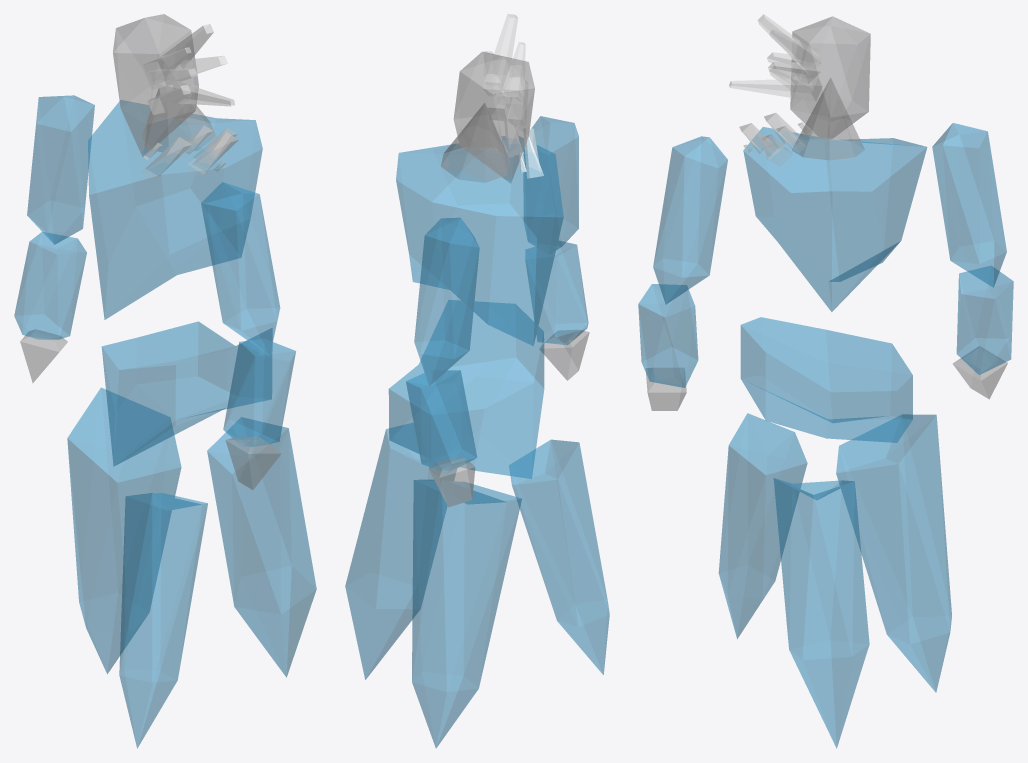
File: ghostIdle18.obj
The picture shows the model from 3 angles, left to right: view 1: azimuth 30°, elevation 25°; view 2: azimuth 150°, elevation 25°; view 3: azimuth 270°, elevation 25°; orthographic projection. The views are drawn at different scales.
Parts seen in each view (by area): view 1: Cube.001_Cube.001, Icosphere.005, Icosphere.004, Cube_Cube.002, Icosphere.003, Icosphere.005_Icosphere.001, Icosphere.003_Icosphere.001, Icosphere.007_Icosphere.001, Icosphere.008_Icosphere.001, Icosphere.006_Icosphere.001, Cone_Cone.002, Cube.002_Cube.001 (+10 smaller); view 2: Cube.001_Cube.001, Cube_Cube.002, Icosphere.005, Icosphere.004, Icosphere.003, Icosphere.007_Icosphere.001, Icosphere.003_Icosphere.001, Icosphere.005_Icosphere.001, Icosphere.008_Icosphere.001, Icosphere.006_Icosphere.001, Cone_Cone.002, Cube.003_Cube.001 (+5 smaller); view 3: Cube.001_Cube.001, Icosphere.005, Icosphere.004, Cube_Cube.002, Icosphere.003, Icosphere.005_Icosphere.001, Icosphere.007_Icosphere.001, Icosphere.003_Icosphere.001, Icosphere.006_Icosphere.001, Icosphere.008_Icosphere.001, Cone_Cone.002, Cube.003_Cube.001 (+4 smaller).
Boxes of the visible parts, box(x1,y1,x2,y2) form: Cube.001_Cube.001: box(88, 100, 262, 319); Icosphere.005: box(67, 387, 181, 673); Icosphere.004: box(207, 417, 316, 677); Cube_Cube.002: box(101, 321, 272, 466); Icosphere.003: box(119, 493, 207, 748); Icosphere.005_Icosphere.001: box(201, 182, 280, 355); Icosphere.003_Icosphere.001: box(113, 14, 198, 156); Icosphere.007_Icosphere.001: box(27, 95, 94, 244); Icosphere.008_Icosphere.001: box(14, 232, 86, 339); Icosphere.006_Icosphere.001: box(223, 339, 295, 446); Cone_Cone.002: box(143, 89, 215, 152); Cube.002_Cube.001: box(225, 437, 281, 489); Cube.001_Cube.001: box(396, 136, 563, 345); Cube_Cube.002: box(388, 300, 544, 478); Icosphere.005: box(412, 479, 521, 748); Icosphere.004: box(345, 423, 456, 679); Icosphere.003: box(509, 439, 609, 674); Icosphere.007_Icosphere.001: box(414, 217, 479, 385); Icosphere.003_Icosphere.001: box(453, 51, 534, 183); Icosphere.005_Icosphere.001: box(523, 116, 578, 254); Icosphere.008_Icosphere.001: box(406, 370, 477, 473); Icosphere.006_Icosphere.001: box(525, 241, 588, 344); Cone_Cone.002: box(441, 103, 507, 182); Cube.003_Cube.001: box(429, 456, 475, 506); Cube.001_Cube.001: box(743, 127, 927, 311); Icosphere.005: box(836, 414, 951, 692); Icosphere.004: box(773, 478, 869, 748); Cube_Cube.002: box(740, 317, 912, 442); Icosphere.003: box(718, 413, 807, 638); Icosphere.005_Icosphere.001: box(653, 136, 727, 304); Icosphere.007_Icosphere.001: box(932, 123, 1006, 287); Icosphere.003_Icosphere.001: box(790, 16, 870, 138); Icosphere.006_Icosphere.001: box(638, 284, 698, 387); Icosphere.008_Icosphere.001: box(956, 266, 1013, 374); Cone_Cone.002: box(792, 78, 864, 160); Cube.003_Cube.001: box(953, 346, 1007, 399).
Size of the model in its own units: 16.55 by 49.71 by 24.81.
